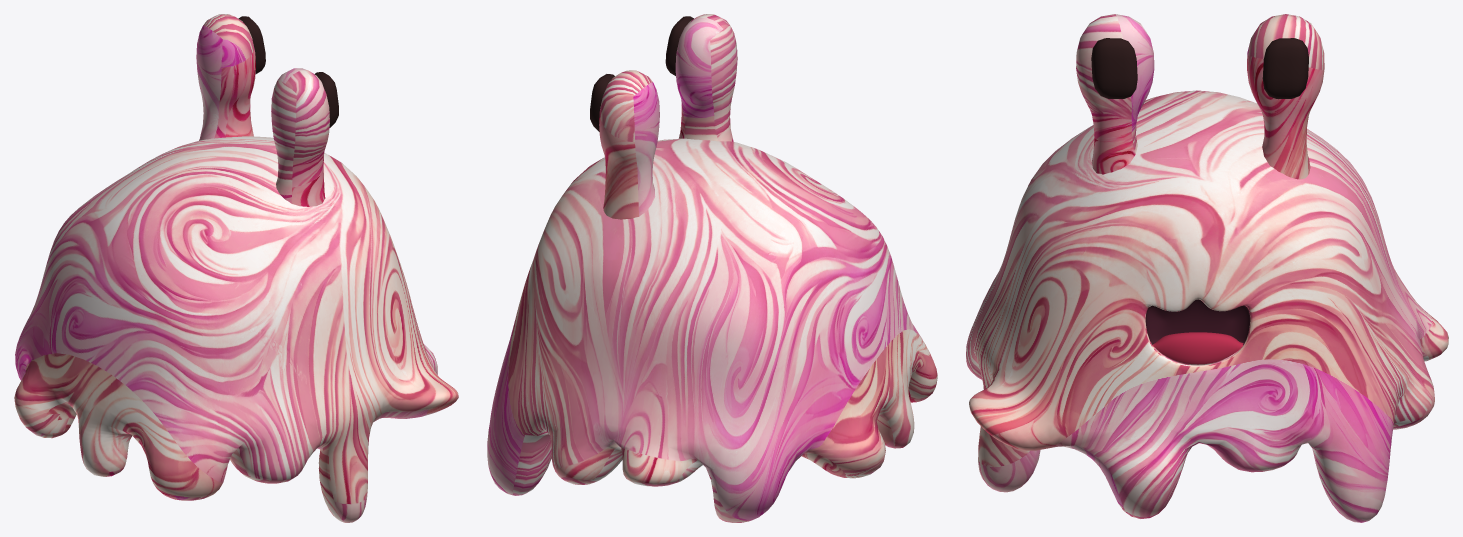
Rendered from Schnecke_texturiert_Mund_offen_verlaufen.fbx.
3 renders of one model, left to right at view 1: azimuth 30°, elevation 25°; view 2: azimuth 150°, elevation 25°; view 3: azimuth 270°, elevation 25°, orthographic. The views are drawn at different scales.
Parts seen in each view (by area): view 1: tako geschmolzen mit mund; view 2: tako geschmolzen mit mund; view 3: tako geschmolzen mit mund.
Part boxes in pixels (x1,y1,x2,y2): tako geschmolzen mit mund: [14, 14, 458, 522]; tako geschmolzen mit mund: [487, 14, 937, 522]; tako geschmolzen mit mund: [966, 14, 1448, 522].
Size of the model in its own units: 784 by 832 by 766.
Materials: 4 (1 with a texture image).
